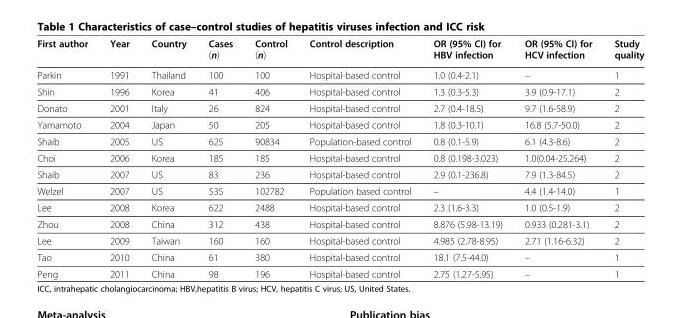table: (36, 37, 643, 279)
table column: (297, 37, 421, 279), (421, 37, 512, 279), (512, 37, 602, 279), (36, 37, 98, 279), (139, 37, 196, 279), (243, 37, 297, 279), (196, 37, 243, 279), (98, 37, 139, 279), (602, 37, 643, 279)
table column header: (36, 37, 643, 64)
table row: (36, 37, 643, 64), (36, 64, 643, 83), (36, 99, 643, 116), (36, 132, 643, 149), (36, 165, 643, 182), (36, 198, 643, 215), (36, 215, 643, 232), (36, 248, 643, 265), (36, 83, 643, 99), (36, 116, 643, 132), (36, 149, 643, 165), (36, 182, 643, 198), (36, 232, 643, 248), (36, 265, 643, 279)
